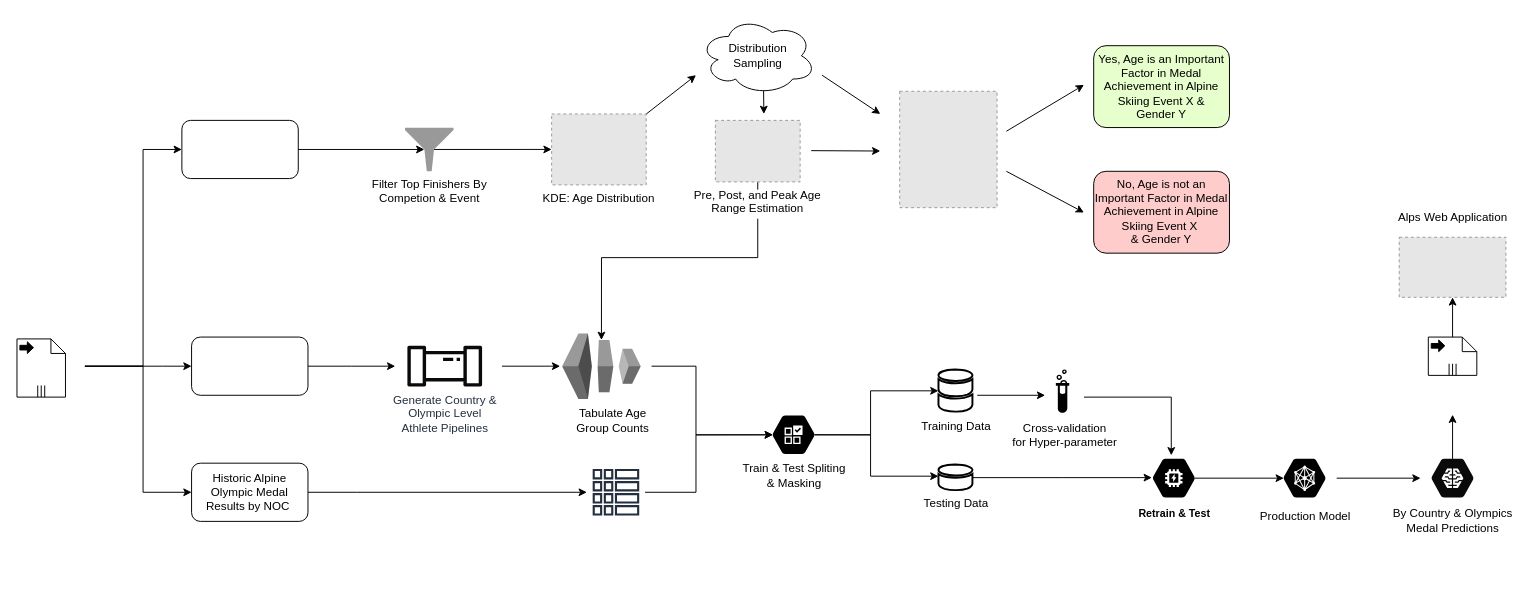
This 1537x601 diagram has some shape labels left out. Grey dashed boxes stand in for pictures. The shapes that lost their labels are listed below. From the top down, each one's centre as x and y in pixels, then its label:
At (x=239, y=149): "Athlete Event & Competition Data".
At (x=40, y=367): "Alpine Data as CSV".
At (x=249, y=365): "Olympic Athletes by Country, Age Group, & Event".
At (x=1452, y=355): "Store Predictions".
At (x=615, y=491): "Generate Observed Medal Labels/Scores By Country and Olympics".
